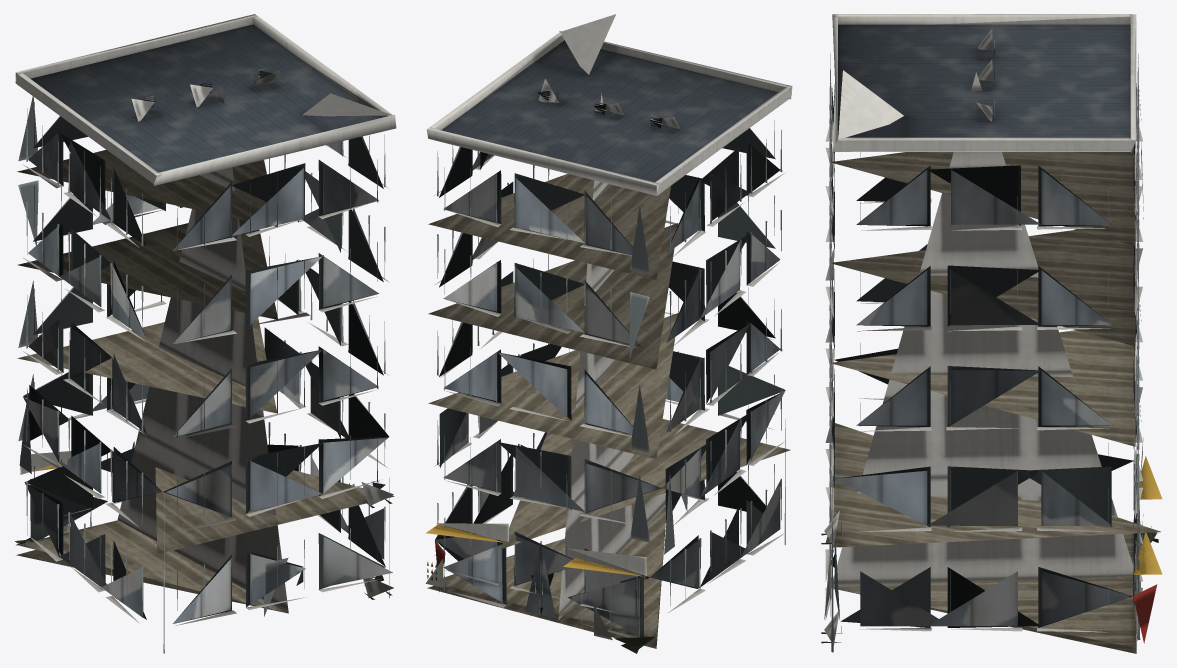
File: shop_007.lod2.obj
3 renders of one model, left to right at view 1: azimuth 30°, elevation 25°; view 2: azimuth 150°, elevation 25°; view 3: azimuth 270°, elevation 25°, orthographic. The views are drawn at different scales.
Parts seen in each view (by area): view 1: shop_007; view 2: shop_007; view 3: shop_007.
Part boxes in pixels (bbox=[...]): shop_007: bbox=[15, 14, 396, 653]; shop_007: bbox=[426, 14, 792, 653]; shop_007: bbox=[821, 14, 1162, 653].
Bounding box in the file's own units: 8.57 × 16.95 × 9.4.
1 material, 1 textured.
